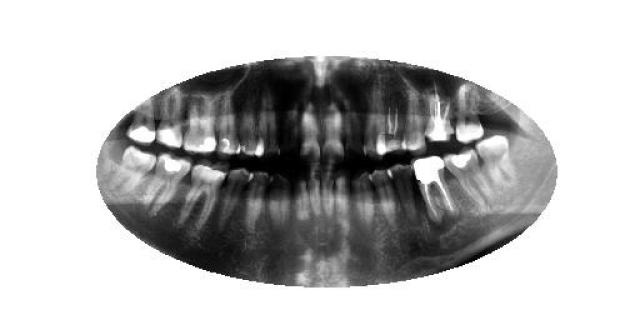Fillings: (445, 147, 493, 205), (142, 155, 188, 215), (185, 94, 216, 154), (157, 88, 185, 148), (125, 99, 159, 145)
Implant: (413, 156, 455, 222), (425, 82, 454, 144)
